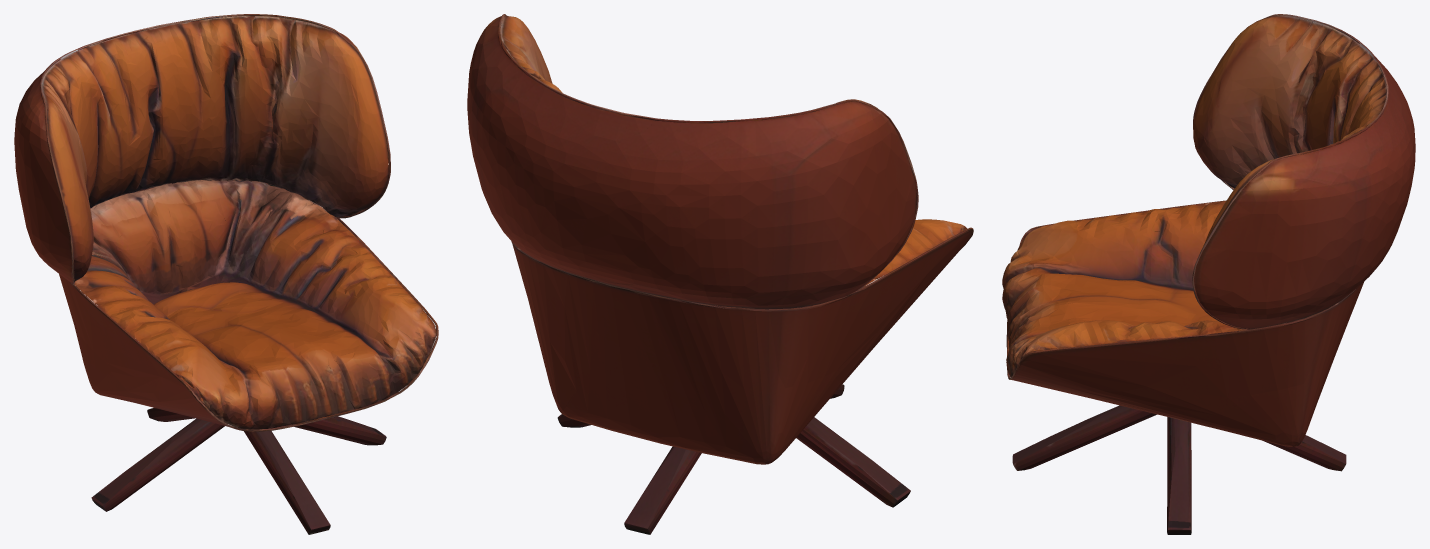
File: edited_mesh.glb
3 renders of one model, left to right at view 1: azimuth 30°, elevation 25°; view 2: azimuth 150°, elevation 25°; view 3: azimuth 270°, elevation 25°, orthographic. The views are drawn at different scales.
Parts seen in each view (by area): view 1: solid_001_wire; view 2: solid_001_wire; view 3: solid_001_wire.
Boxes of the visible parts, left/top/right/bottom form: solid_001_wire: left=14, top=14, right=438, bottom=534; solid_001_wire: left=467, top=14, right=973, bottom=534; solid_001_wire: left=1002, top=14, right=1415, bottom=534.
Bounding box in the file's own units: 1.24 × 1.34 × 1.31.
1 material, 1 textured.
